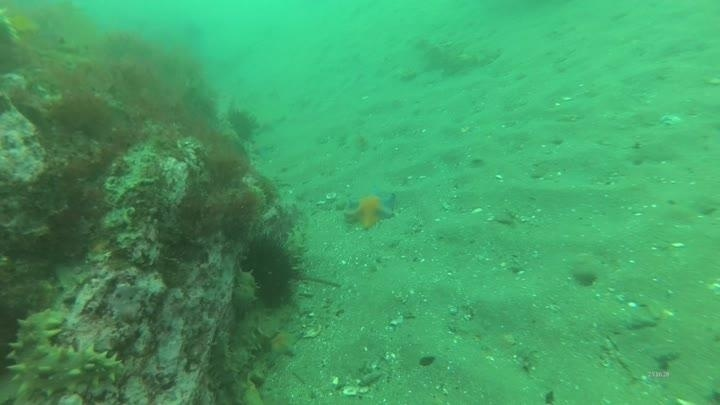echinus: (236, 230, 306, 311), (223, 105, 261, 145)
holothurian: (3, 305, 126, 401), (399, 30, 504, 79), (203, 316, 258, 403), (229, 262, 262, 313), (282, 227, 315, 278)
starfish: (343, 184, 399, 232), (263, 324, 302, 362)
